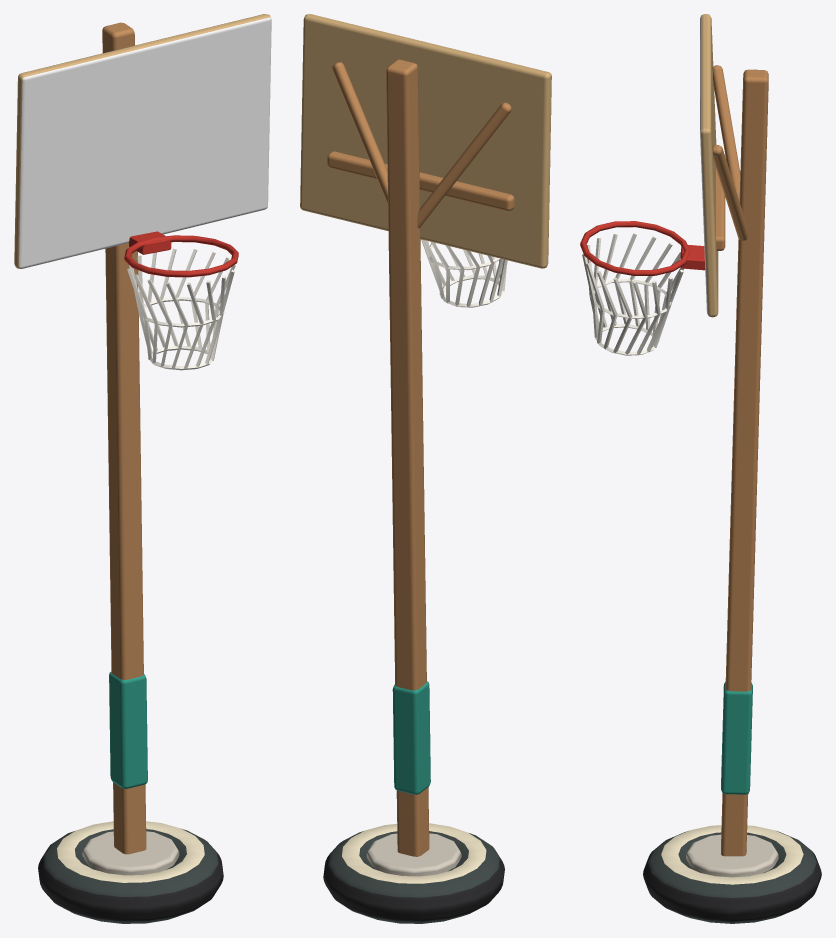
Rendered from prop_basketball_hoop.glb.
The picture shows the model from 3 angles, left to right: view 1: azimuth 30°, elevation 25°; view 2: azimuth 150°, elevation 25°; view 3: azimuth 270°, elevation 25°; orthographic projection. The views are drawn at different scales.
Visible parts, largest first — view 1: prop_basketball_hoop; view 2: prop_basketball_hoop; view 3: prop_basketball_hoop.
Boxes of the visible parts, x1,y1,x2,y2 form: prop_basketball_hoop: (14,14,271,923); prop_basketball_hoop: (300,14,551,923); prop_basketball_hoop: (580,14,821,923).
Bounding box in the file's own units: 1.2 × 3.91 × 1.04.
